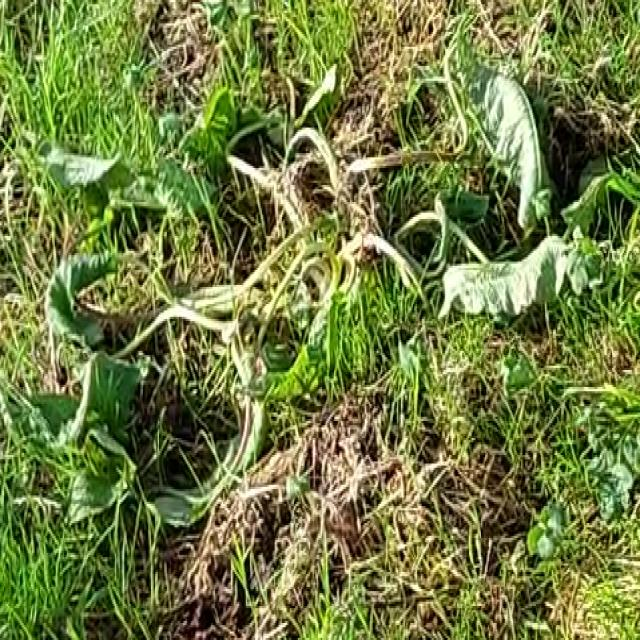organic waste: (20, 44, 587, 532)
